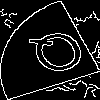Q: (25, 25, 95, 85)
